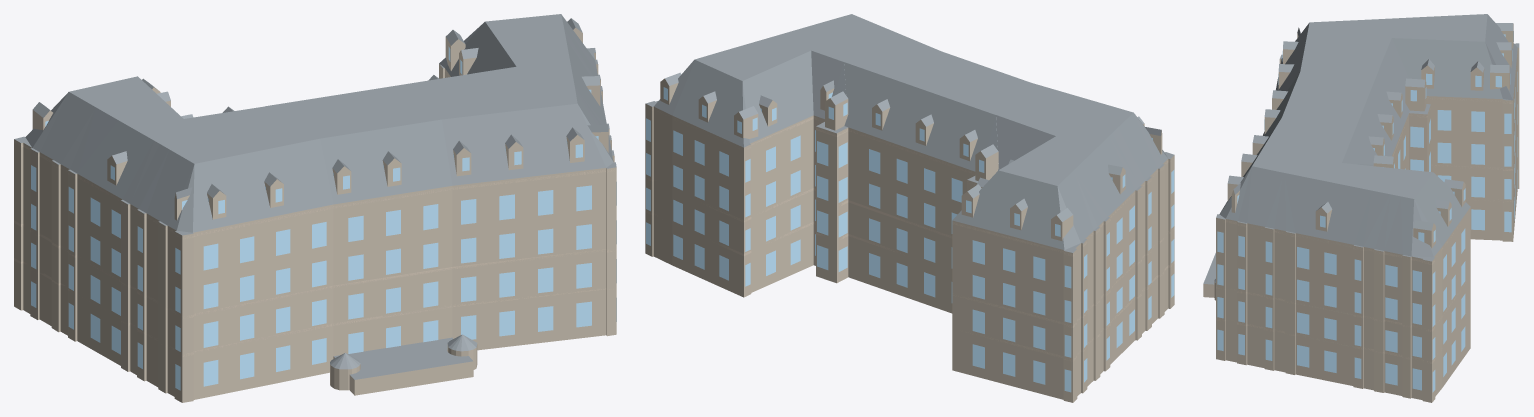
3 renders of one model, left to right at view 1: azimuth 30°, elevation 25°; view 2: azimuth 150°, elevation 25°; view 3: azimuth 270°, elevation 25°, orthographic. The views are drawn at different scales.
Visible parts, largest first — view 1: stone, roof, window, trim; view 2: stone, roof, window, trim; view 3: stone, roof, window, trim.
Part boxes in pixels (box(x1,y1,x2,y2)): stone: box(14, 27, 616, 402); roof: box(14, 14, 616, 379); window: box(31, 46, 616, 390); trim: box(14, 55, 614, 356); stone: box(645, 78, 1174, 402); roof: box(646, 14, 1174, 252); window: box(646, 87, 1174, 392); trim: box(645, 106, 1174, 361); stone: box(1203, 24, 1519, 402); roof: box(1203, 14, 1519, 284); window: box(1217, 31, 1517, 392); trim: box(1216, 56, 1518, 363).
Bounding box in the file's own units: 52.93 × 21 × 32.44.
